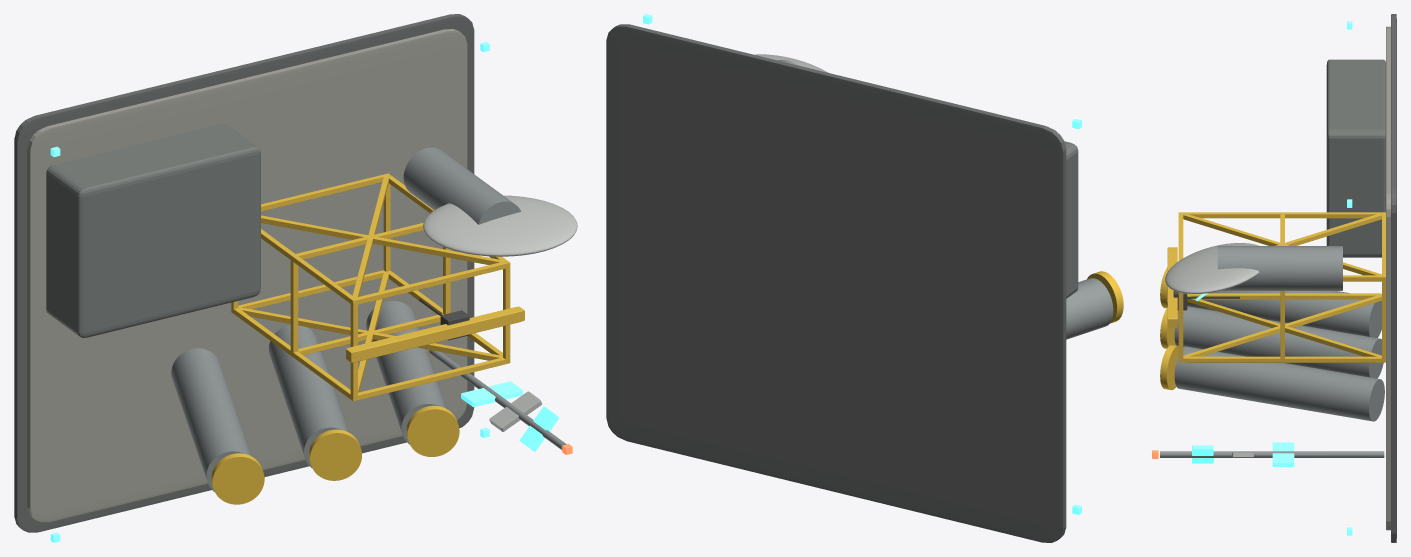
File: b-38-orbital-defense-lod1.glb
3 views of the same model, side by side, from view 1: azimuth 30°, elevation 25°; view 2: azimuth 150°, elevation 25°; view 3: azimuth 270°, elevation 25° (orthographic). The views are drawn at different scales.
Visible parts, largest first — view 1: foundation_inner_pad, bunker_main, foundation, orbital_tracking_dish_dish, missile_01_tube, missile_02_tube, radar_pedestal, missile_03_tube, reload_crane_bridge, missile_02_cap, missile_01_cap, missile_03_cap (+18 smaller); view 2: foundation, missile_01_tube, bunker_main, missile_01_cap; view 3: bunker_main, missile_03_tube, missile_02_tube, radar_pedestal, missile_01_tube, foundation, orbital_tracking_dish_dish, foundation_inner_pad, reload_crane_column_e_s, reload_crane_brace_a_-1.5, reload_crane_brace_b_-1.5, optical_tracker_main (+12 smaller).
Part boxes in pixels (x1=…): foundation_inner_pad: x1=27, y1=29, x2=467, y2=522; bunker_main: x1=46, y1=124, x2=260, y2=337; foundation: x1=14, y1=14, x2=474, y2=532; orbital_tracking_dish_dish: x1=423, y1=195, x2=577, y2=256; missile_01_tube: x1=171, y1=348, x2=251, y2=491; missile_02_tube: x1=268, y1=325, x2=349, y2=467; radar_pedestal: x1=403, y1=147, x2=521, y2=224; missile_03_tube: x1=366, y1=301, x2=446, y2=444; reload_crane_bridge: x1=346, y1=306, x2=524, y2=362; missile_02_cap: x1=308, y1=429, x2=361, y2=480; missile_01_cap: x1=211, y1=453, x2=264, y2=504; missile_03_cap: x1=406, y1=405, x2=459, y2=456; foundation: x1=606, y1=24, x2=1066, y2=542; missile_01_tube: x1=1066, y1=278, x2=1113, y2=339; bunker_main: x1=1064, y1=141, x2=1078, y2=298; missile_01_cap: x1=1087, y1=271, x2=1123, y2=323; bunker_main: x1=1326, y1=59, x2=1385, y2=257; missile_03_tube: x1=1174, y1=346, x2=1384, y2=421; missile_02_tube: x1=1174, y1=306, x2=1383, y2=378; radar_pedestal: x1=1217, y1=246, x2=1342, y2=290; missile_01_tube: x1=1187, y1=291, x2=1381, y2=338; foundation: x1=1391, y1=14, x2=1396, y2=542; orbital_tracking_dish_dish: x1=1165, y1=243, x2=1259, y2=293; foundation_inner_pad: x1=1386, y1=26, x2=1390, y2=530; reload_crane_column_e_s: x1=1183, y1=356, x2=1382, y2=362; reload_crane_brace_a_-1.5: x1=1183, y1=295, x2=1381, y2=356; reload_crane_brace_b_-1.5: x1=1187, y1=295, x2=1381, y2=356; optical_tracker_main: x1=1160, y1=451, x2=1384, y2=457.
Size of what is drawn, in the model's own units: 15 by 13 by 8.19.
